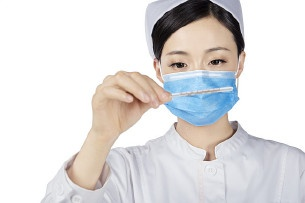Mask: (157, 45, 236, 123)
